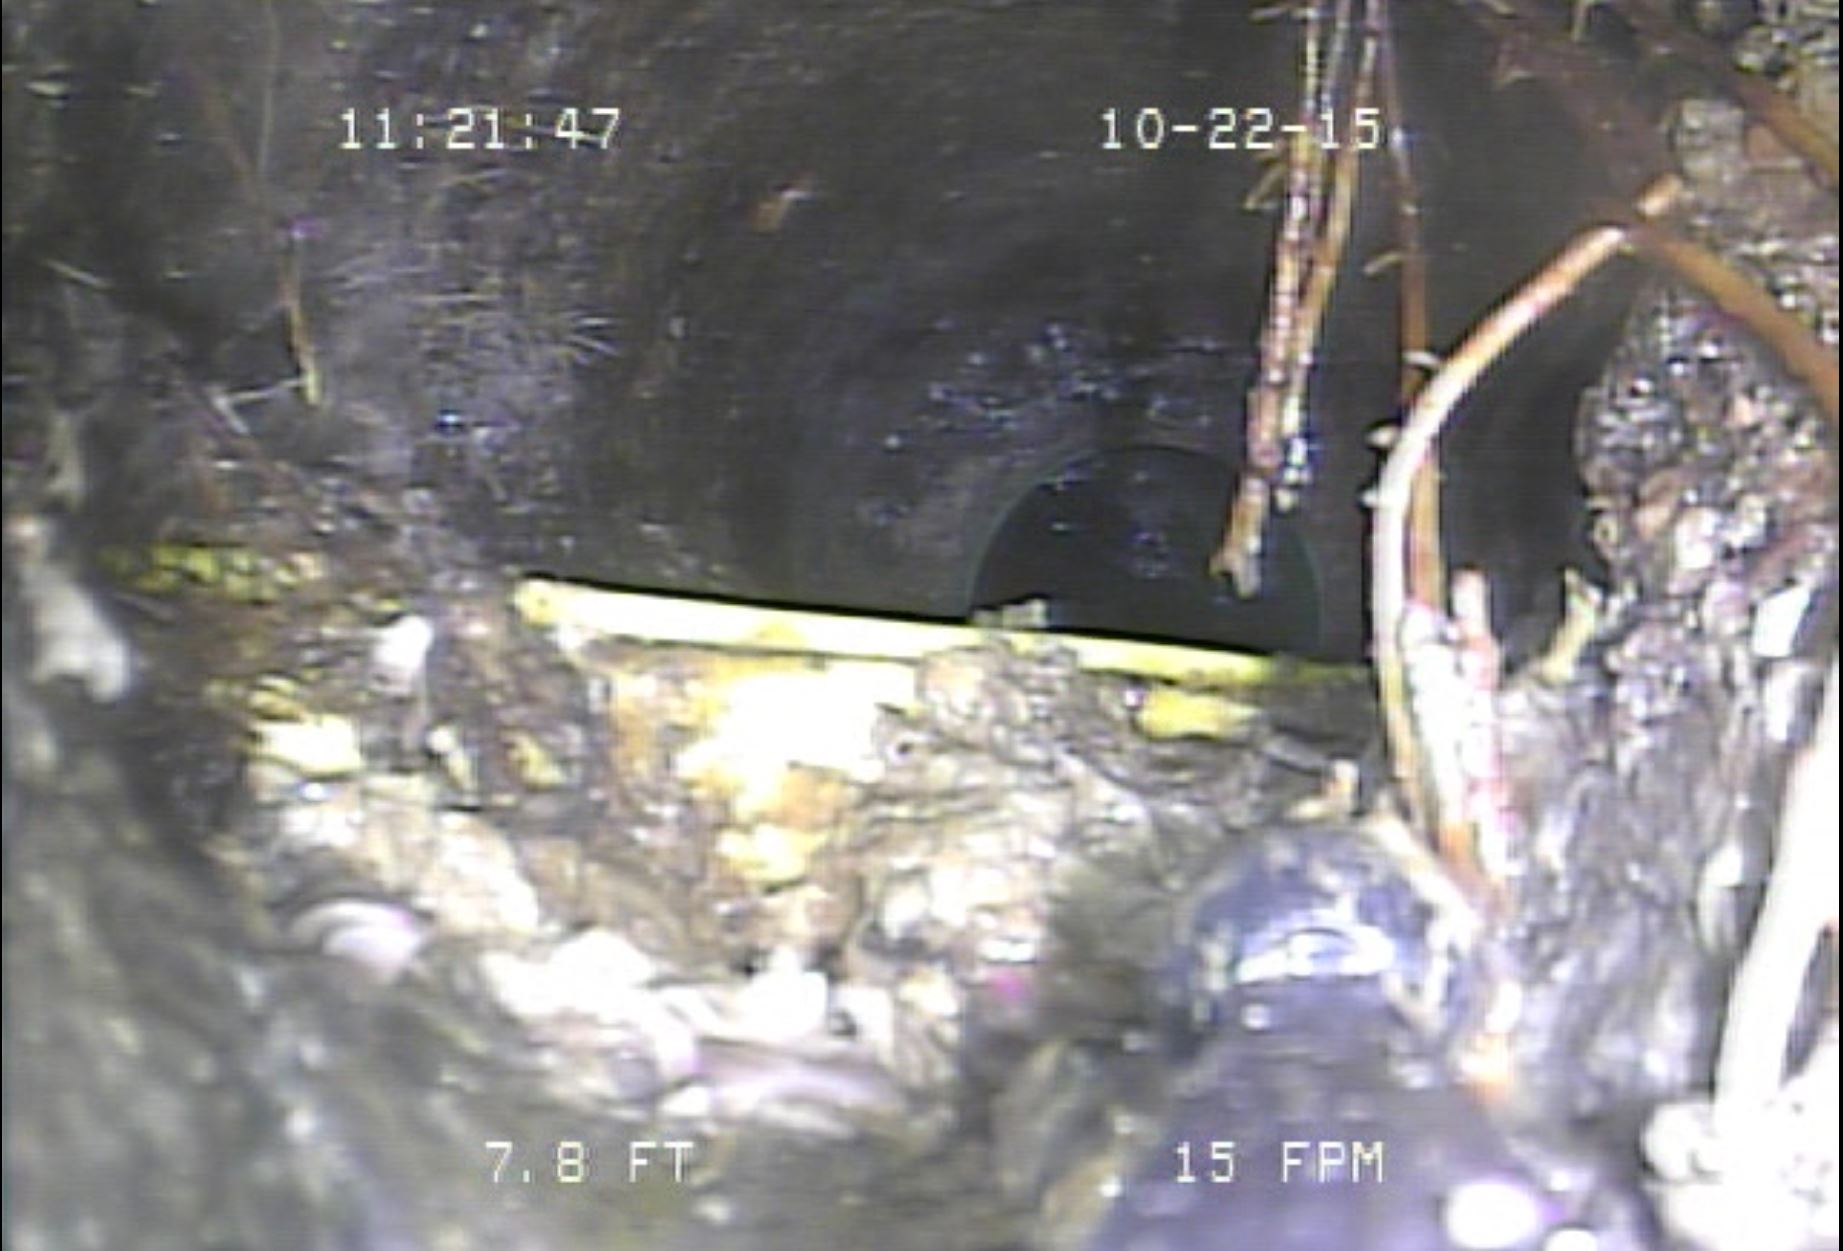cb: (84, 489, 1378, 757)
